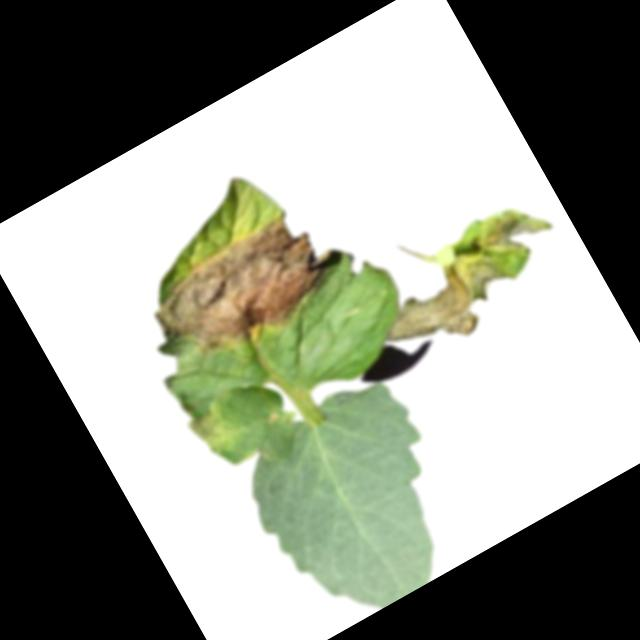Late_blight: (139, 195, 359, 380), (357, 189, 577, 370), (182, 394, 247, 463)
